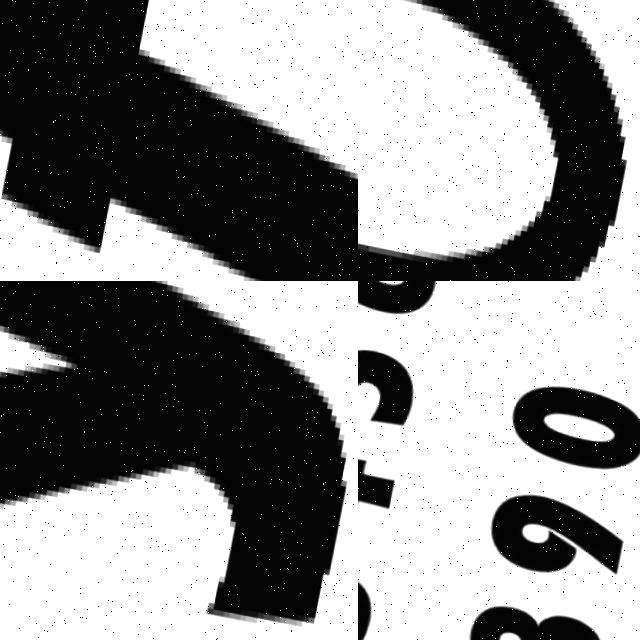0: (498, 363, 640, 473)
4: (358, 430, 426, 550)
5: (358, 320, 442, 431)
6: (358, 281, 457, 323)
8: (456, 584, 623, 640)
9: (486, 477, 640, 584)
F: (0, 0, 358, 281)
O: (358, 0, 635, 281)
Y: (0, 281, 358, 640)
